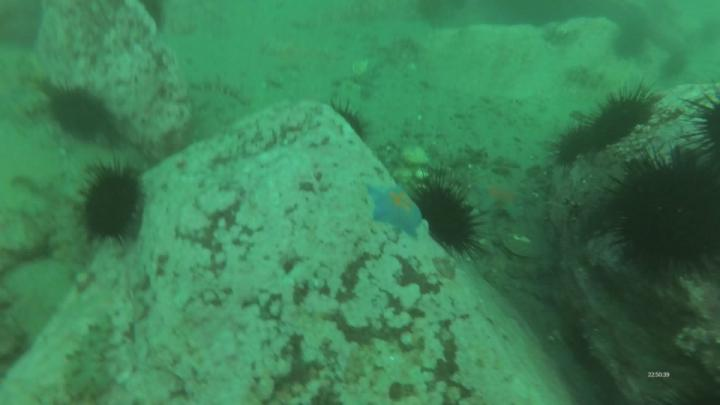echinus: (608, 150, 720, 278), (411, 167, 490, 263), (73, 159, 150, 249), (44, 82, 116, 147), (596, 79, 660, 138), (546, 118, 618, 167), (679, 81, 720, 152), (327, 98, 375, 143), (608, 27, 650, 64)
holothurian: (187, 76, 255, 113), (562, 64, 614, 94), (540, 23, 584, 49)
scallop: (499, 230, 544, 262)
starfish: (359, 180, 425, 240), (472, 176, 530, 223)
